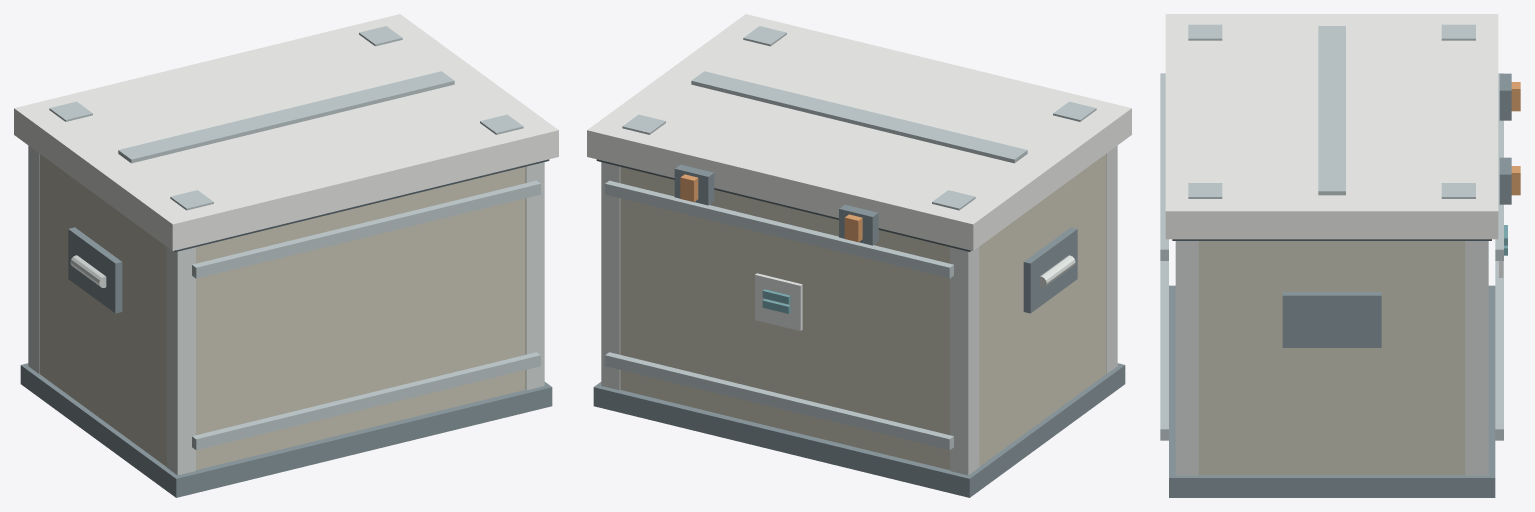
Rendered from supply_crate_large.glb.
3 renders of one model, left to right at view 1: azimuth 30°, elevation 25°; view 2: azimuth 150°, elevation 25°; view 3: azimuth 270°, elevation 25°, orthographic. The views are drawn at different scales.
Parts seen in each view (by area): view 1: body_sand, lid_white_painted, corner_ribs_satin_steel, bottom_skid_dark_alloy, reinforcing_ribs_alloy, top_spine_alloy, side_handle_well_dark_alloy, stacking_guides_alloy, lid_seal_black_rubber; view 2: body_sand, lid_white_painted, corner_ribs_satin_steel, bottom_skid_dark_alloy, reinforcing_ribs_alloy, top_spine_alloy, side_handle_well_dark_alloy, stacking_guides_alloy, latch_housings_dark_alloy, symbol_plate_white_ceramic, lid_latches_orange, lid_seal_black_rubber; view 3: lid_white_painted, body_sand, corner_ribs_satin_steel, bottom_skid_dark_alloy, side_handle_well_dark_alloy, reinforcing_ribs_alloy, top_spine_alloy, stacking_guides_alloy, latch_housings_dark_alloy, lid_seal_black_rubber, lid_latches_orange.
Boxes of the visible parts, bbox=[...] form: body_sand: bbox=[39, 154, 525, 469]; lid_white_painted: bbox=[14, 14, 558, 250]; corner_ribs_satin_steel: bbox=[28, 145, 544, 475]; bottom_skid_dark_alloy: bbox=[20, 363, 552, 497]; reinforcing_ribs_alloy: bbox=[192, 180, 540, 450]; top_spine_alloy: bbox=[118, 71, 454, 163]; side_handle_well_dark_alloy: bbox=[68, 227, 122, 313]; stacking_guides_alloy: bbox=[49, 26, 523, 210]; lid_seal_black_rubber: bbox=[174, 159, 549, 251]; body_sand: bbox=[620, 154, 1106, 469]; lid_white_painted: bbox=[587, 14, 1131, 250]; corner_ribs_satin_steel: bbox=[601, 145, 1117, 475]; bottom_skid_dark_alloy: bbox=[593, 363, 1125, 497]; reinforcing_ribs_alloy: bbox=[605, 180, 953, 450]; top_spine_alloy: bbox=[691, 71, 1027, 163]; side_handle_well_dark_alloy: bbox=[1023, 227, 1077, 313]; stacking_guides_alloy: bbox=[622, 26, 1096, 210]; latch_housings_dark_alloy: bbox=[674, 164, 878, 245]; symbol_plate_white_ceramic: bbox=[755, 273, 802, 330]; lid_latches_orange: bbox=[680, 174, 862, 242]; lid_seal_black_rubber: bbox=[596, 159, 971, 251]; lid_white_painted: bbox=[1165, 14, 1498, 239]; body_sand: bbox=[1198, 241, 1465, 475]; corner_ribs_satin_steel: bbox=[1175, 241, 1488, 475]; bottom_skid_dark_alloy: bbox=[1169, 285, 1495, 497]; side_handle_well_dark_alloy: bbox=[1282, 292, 1381, 347]; reinforcing_ribs_alloy: bbox=[1160, 73, 1503, 440]; top_spine_alloy: bbox=[1318, 26, 1345, 195]; stacking_guides_alloy: bbox=[1188, 24, 1475, 198]; latch_housings_dark_alloy: bbox=[1499, 73, 1511, 204]; lid_seal_black_rubber: bbox=[1172, 239, 1491, 240]; lid_latches_orange: bbox=[1511, 82, 1520, 195].
Bounding box in the file's own units: 0.8705 × 0.587 × 0.6545.
